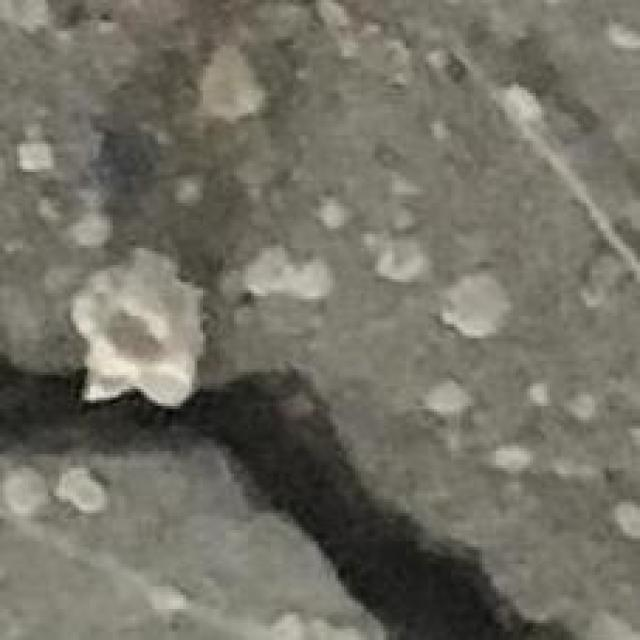Crack: (0, 352, 575, 638)
